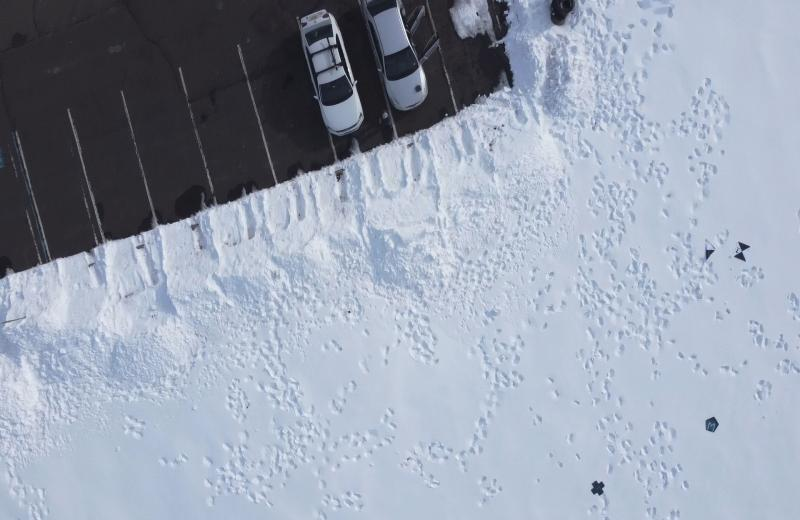Cross: (589, 479, 607, 498)
Pentagon: (704, 415, 720, 434)
